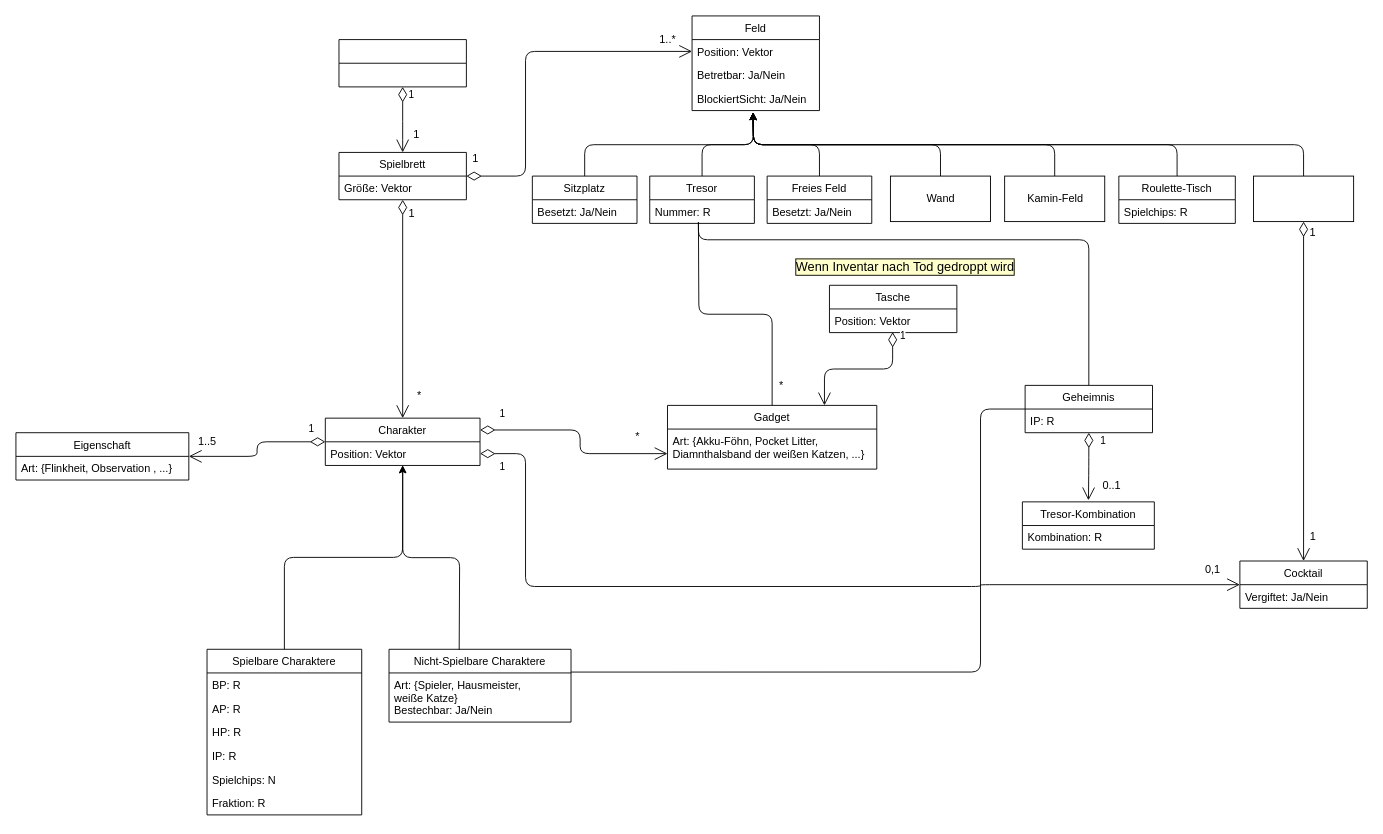
Some shapes in this 1383 by 834 pixel diagram are drawn without their labels. Here are the shapes that lost their labels. From the top down, the centre of each, then its label:
At pixel 402 63: "Spielwelt".
At pixel 1303 198: "Bar-Tisch".
